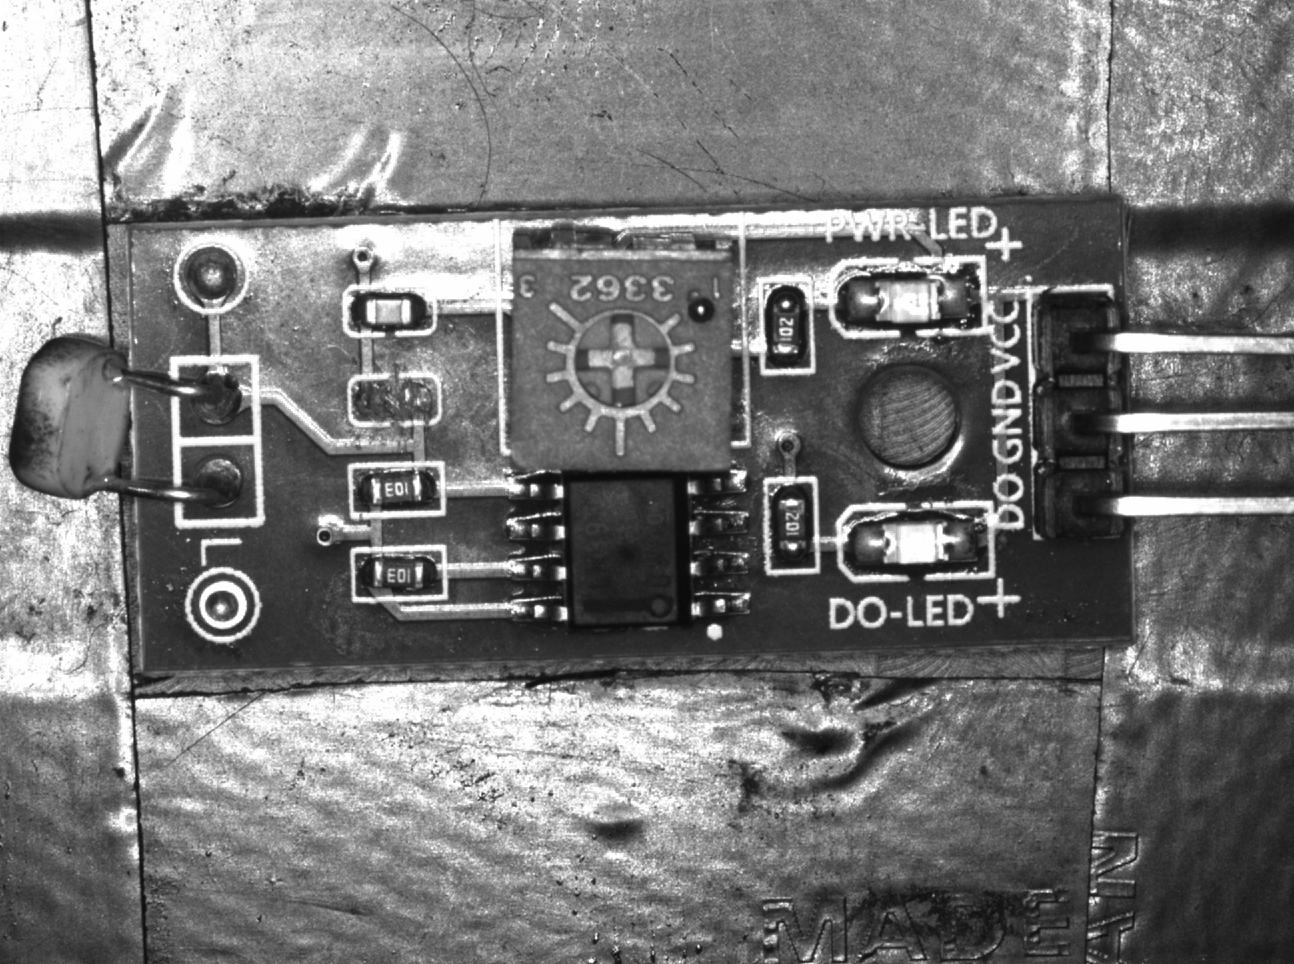miss: (349, 374, 438, 426)
ok: (341, 545, 448, 601), (759, 275, 814, 375), (350, 464, 444, 516), (766, 474, 815, 575), (340, 288, 436, 338)
